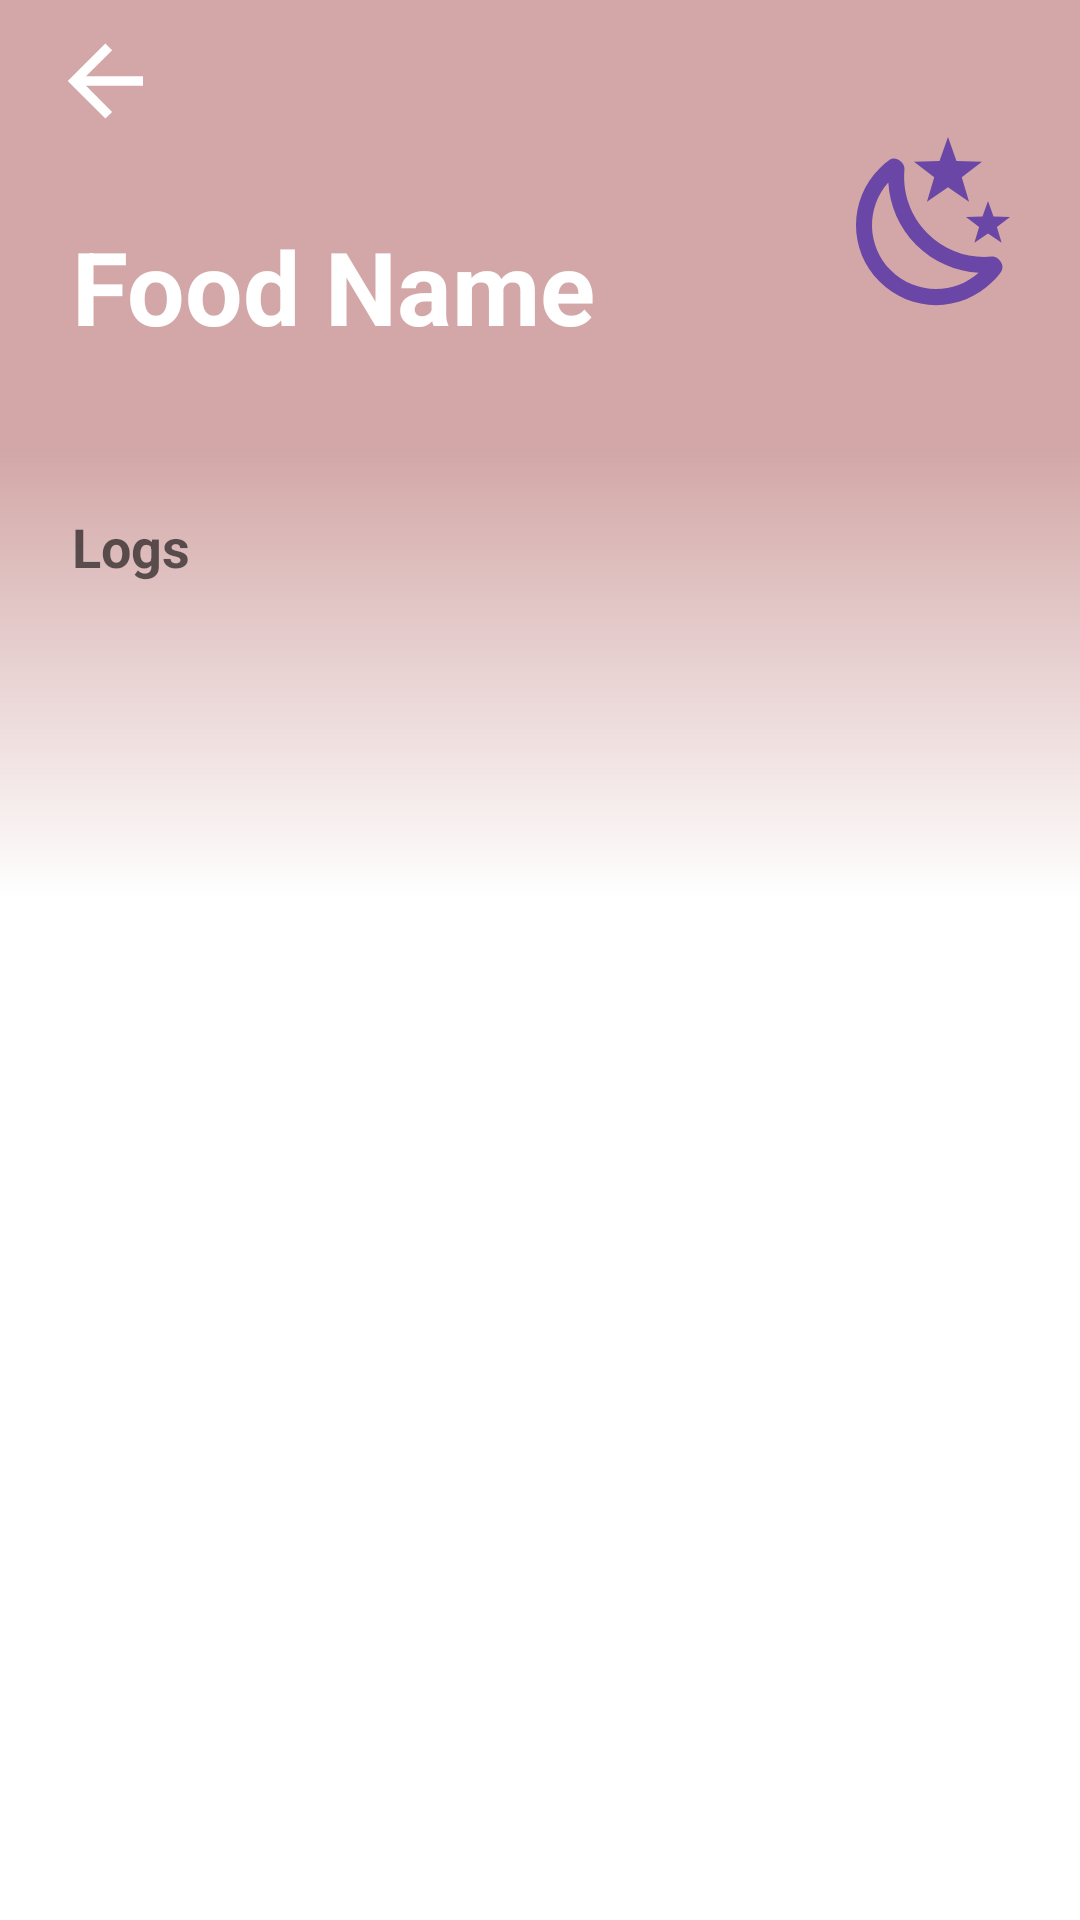

Point at icon controls on the screen. Image size 1080w x 1920h, points as point (x, y).
arrow left: point (105, 81)
night medium: point (933, 221)
